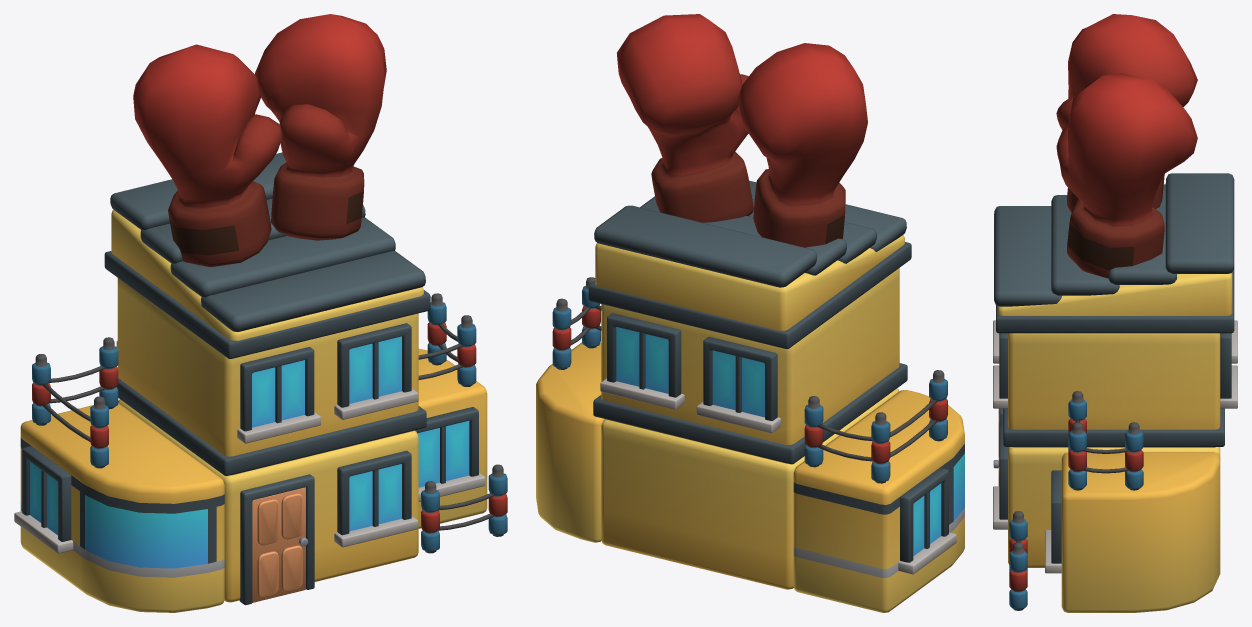
Rendered from mct_build_full_boxing.fbx.
3 views of the same model, side by side, from view 1: azimuth 30°, elevation 25°; view 2: azimuth 150°, elevation 25°; view 3: azimuth 270°, elevation 25° (orthographic). The views are drawn at different scales.
Visible parts, largest first — view 1: mct_build_full_boxing, mct_build_full_boxing_door; view 2: mct_build_full_boxing; view 3: mct_build_full_boxing.
Part boxes in pixels (x1,y1,x2,y2): mct_build_full_boxing: (14,14,507,612); mct_build_full_boxing_door: (252,487,308,602); mct_build_full_boxing: (536,14,964,612); mct_build_full_boxing: (993,14,1237,612).
Bounding box in the file's own units: 832 × 991 × 461.
